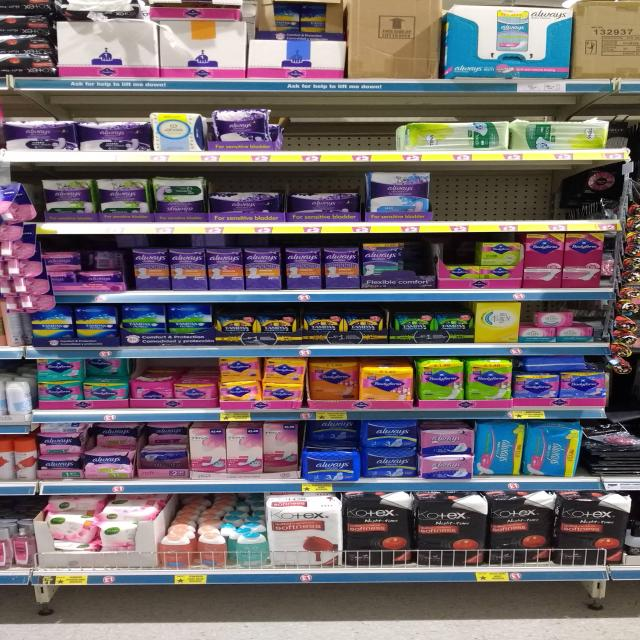empty: (435, 173, 589, 219), (283, 112, 394, 152), (406, 242, 436, 278), (443, 241, 480, 266)
